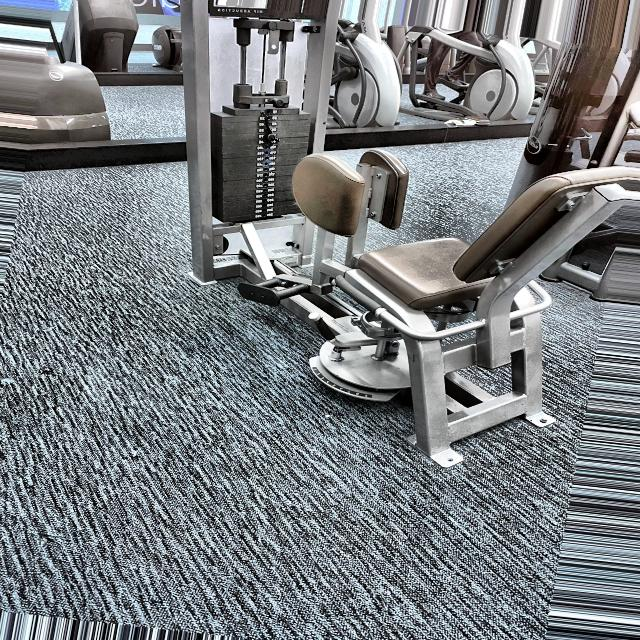hip_adduction_machine: (276, 94, 590, 467), (213, 5, 270, 17)
